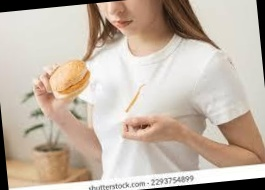mustard: (125, 92, 142, 108), (124, 105, 134, 116), (136, 83, 144, 93)
